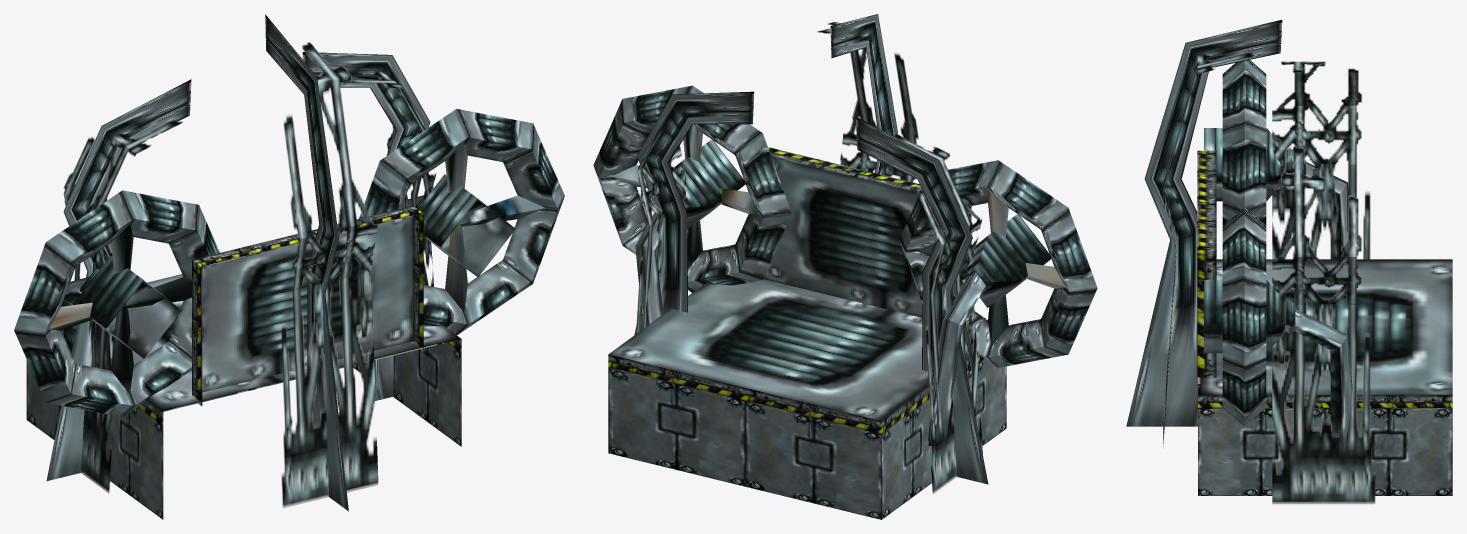
The model's file is kraftwerk_prismenengine_2818.glb.
The picture shows the model from 3 angles, left to right: view 1: azimuth 30°, elevation 25°; view 2: azimuth 150°, elevation 25°; view 3: azimuth 270°, elevation 25°; orthographic projection. The views are drawn at different scales.
Visible parts, largest first — view 1: pPlaneShape75, pPlaneShape70, pTorusShape8, pTorusShape3, pPlaneShape76, pPlaneShape74, pPlaneShape62, pPlaneShape73, pPlaneShape63, pPlaneShape72, pSphereShape5, pSphereShape2 (+9 smaller); view 2: pPlaneShape60, pPlaneShape64, pPlaneShape70, pTorusShape3, pTorusShape8, pPlaneShape74, pPlaneShape72, pPlaneShape62, pPlaneShape73, pSphereShape5, pPlaneShape76, pCylinderShape19 (+9 smaller); view 3: pPlaneShape71, pPlaneShape76, pPlaneShape60, pPlaneShape63, pTorusShape3, pPlaneShape73, pTorusShape8, pCylinderShape9, pSphereShape2, pPlaneShape68, pSphereShape5, pPlaneShape67 (+2 smaller).
Part boxes in pixels (bbox=[...]): pPlaneShape75: bbox=[281, 41, 378, 507]; pPlaneShape70: bbox=[202, 216, 413, 392]; pTorusShape8: bbox=[14, 190, 219, 417]; pTorusShape3: bbox=[359, 109, 564, 335]; pPlaneShape76: bbox=[265, 14, 348, 511]; pPlaneShape74: bbox=[46, 79, 191, 480]; pPlaneShape62: bbox=[26, 359, 163, 519]; pPlaneShape73: bbox=[55, 120, 183, 493]; pPlaneShape63: bbox=[353, 339, 461, 446]; pPlaneShape72: bbox=[302, 52, 430, 400]; pSphereShape5: bbox=[73, 256, 181, 358]; pSphereShape2: bbox=[418, 174, 515, 277]; pPlaneShape60: bbox=[609, 279, 972, 420]; pPlaneShape64: bbox=[608, 354, 881, 519]; pPlaneShape70: bbox=[763, 157, 962, 317]; pTorusShape3: bbox=[593, 85, 791, 292]; pTorusShape8: bbox=[899, 160, 1097, 367]; pPlaneShape74: bbox=[856, 116, 988, 484]; pPlaneShape72: bbox=[634, 91, 754, 334]; pPlaneShape62: bbox=[881, 352, 1006, 519]; pPlaneShape73: bbox=[893, 133, 983, 494]; pSphereShape5: bbox=[960, 214, 1051, 307]; pPlaneShape76: bbox=[830, 14, 897, 176]; pCylinderShape19: bbox=[928, 272, 985, 445]; pPlaneShape71: bbox=[1272, 146, 1375, 504]; pPlaneShape76: bbox=[1126, 20, 1282, 426]; pPlaneShape60: bbox=[1198, 259, 1452, 394]; pPlaneShape63: bbox=[1198, 395, 1452, 495]; pTorusShape3: bbox=[1222, 207, 1266, 425]; pPlaneShape73: bbox=[1272, 61, 1370, 259]; pTorusShape8: bbox=[1222, 60, 1266, 225]; pCylinderShape9: bbox=[1295, 309, 1352, 452]; pSphereShape2: bbox=[1204, 280, 1285, 353]; pPlaneShape68: bbox=[1197, 150, 1216, 251]; pSphereShape5: bbox=[1204, 128, 1286, 201]; pPlaneShape67: bbox=[1197, 251, 1216, 380].
Bounding box in the file's own units: 0.4668 × 0.3538 × 0.2568.
Materials: 26 (26 with a texture image).
